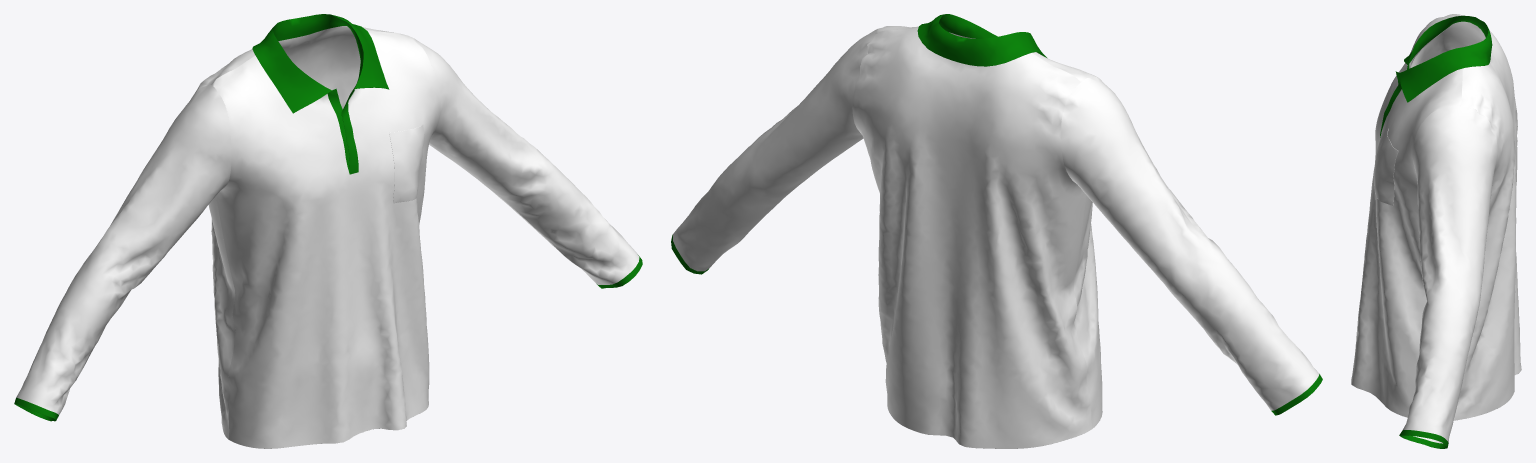
File: 9ba4740d-7c2a-45f8-8001-d60381cdd197.glb
3 views of the same model, side by side, from view 1: azimuth 30°, elevation 25°; view 2: azimuth 150°, elevation 25°; view 3: azimuth 270°, elevation 25° (orthographic). The views are drawn at different scales.
Visible parts, largest first — view 1: Object_13, Object_18, Object_17, Object_10, Object_12, Object_16, Object_11; view 2: Object_10, Object_18, Object_17, Object_13, Object_12; view 3: Object_17, Object_13, Object_10, Object_12, Object_18, Object_16, Object_14, Object_11.
Boxes of the visible parts, x1,y1,x2,y2 form: Object_13: (212, 30, 441, 448); Object_18: (16, 83, 231, 414); Object_17: (414, 38, 639, 284); Object_10: (201, 26, 393, 439); Object_12: (252, 14, 388, 113); Object_16: (389, 124, 424, 203); Object_11: (327, 88, 358, 174); Object_10: (852, 27, 1092, 448); Object_18: (1061, 77, 1319, 410); Object_17: (673, 29, 877, 271); Object_13: (875, 26, 1102, 428); Object_12: (917, 14, 1046, 66); Object_17: (1403, 105, 1497, 443); Object_13: (1351, 14, 1462, 417); Object_10: (1453, 14, 1521, 420); Object_12: (1400, 15, 1492, 102); Object_18: (1412, 15, 1485, 67); Object_16: (1373, 129, 1398, 205); Object_14: (1399, 430, 1448, 448); Object_11: (1380, 64, 1409, 137).
Size of the model in its own units: 1175 by 690 by 303.
